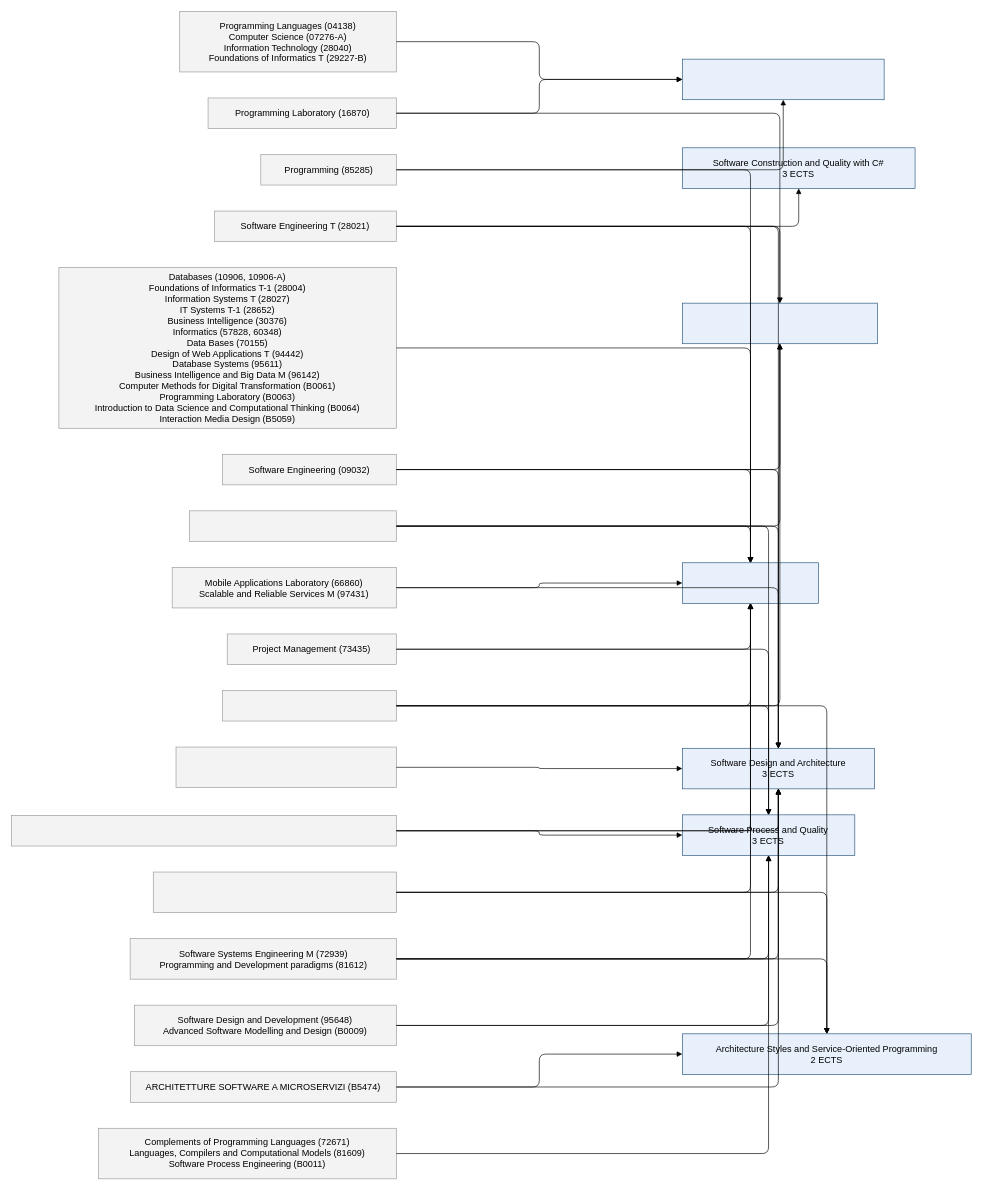
This 983x1191 diagram has some shape labels left out. Here are the shapes that lost their labels. From the top down, the box of each, then its label:
(682, 58, 884, 100): Programming Language Foundations 4 ECTS
(682, 303, 877, 344): UML and Object-Oriented Modeling 3 ECTS
(189, 510, 396, 541): Software Engineering (66858, 90106)
(682, 562, 819, 603): Software Engineering 3 ECTS
(222, 690, 396, 721): Software Engineering (95627)
(175, 746, 396, 788): Object-Oriented Programming (70219) SISTEMI SOFTWARE A OGGETTI T (B8554)
(11, 815, 396, 846): Project Management and Software Engineering for Cultural Heritage (B1874)
(153, 871, 396, 913): Distributed Systems M (73025) Software Architecture and Platforms (B0010)
